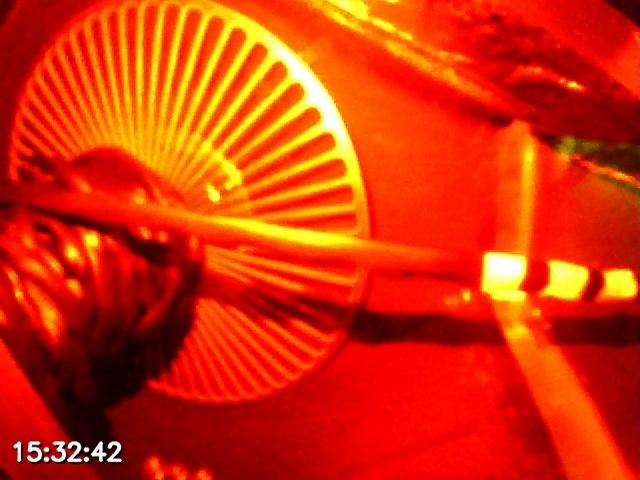white-dots: (481, 251, 639, 306)
